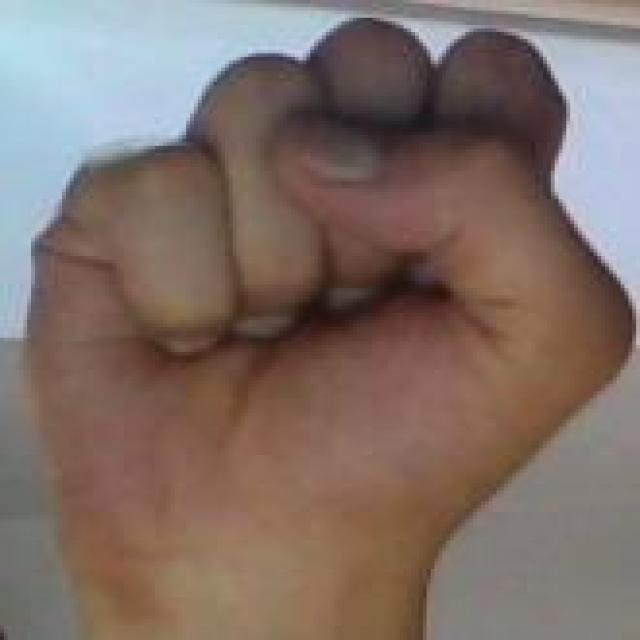S: (3, 0, 640, 531)
